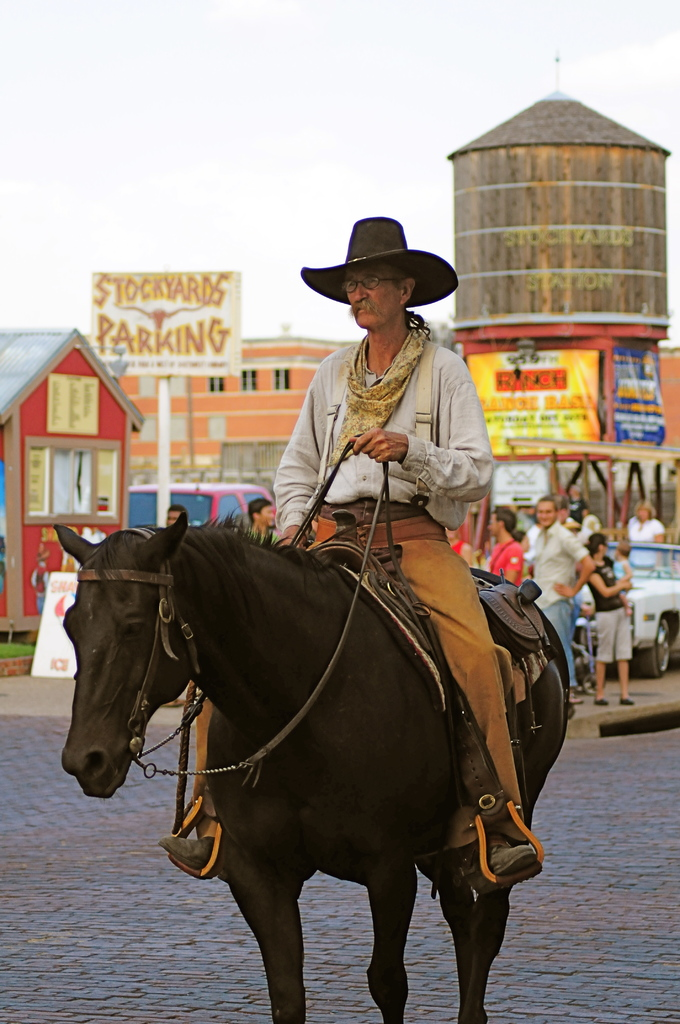Person: (158, 218, 537, 896), (159, 485, 665, 708)
